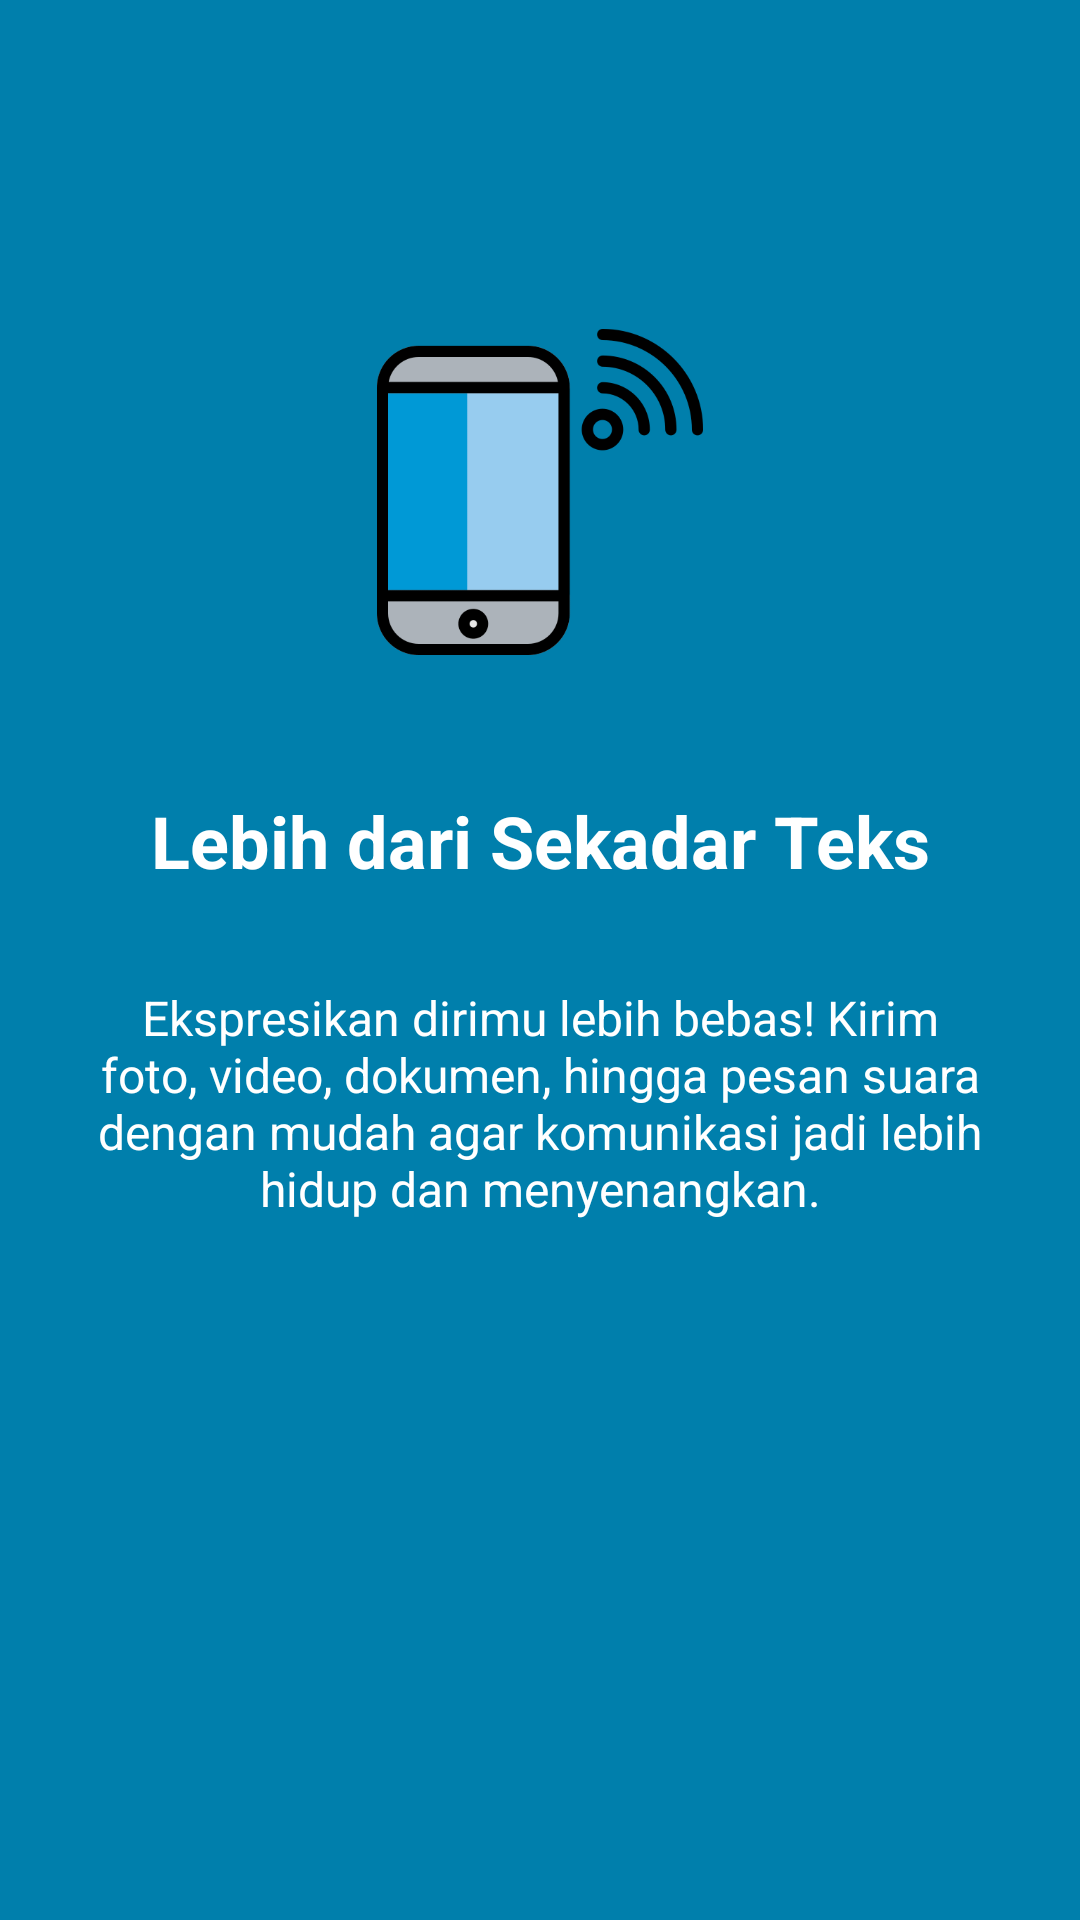

Point at icon controls on the screen. Image size 1080×1920, points as [x,y].
handphone: [540,492]
